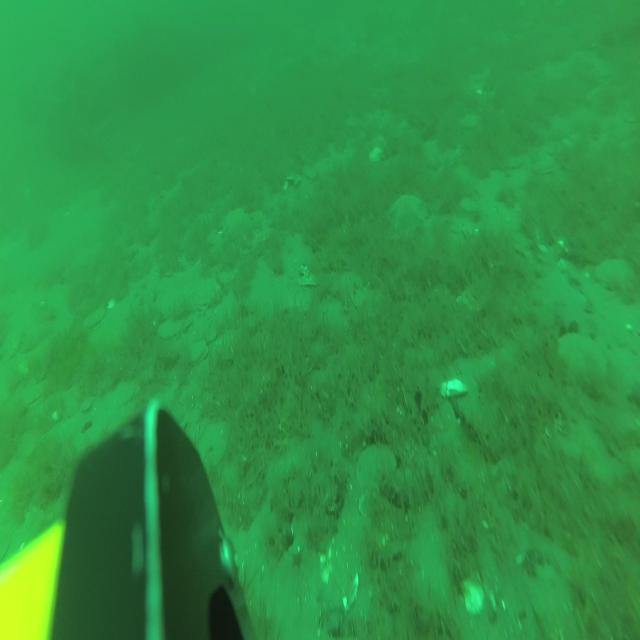scallop: (557, 332, 607, 386), (358, 442, 397, 494), (596, 255, 636, 295), (199, 423, 227, 469), (24, 378, 48, 409), (158, 317, 184, 344), (197, 280, 219, 310), (84, 306, 106, 332), (189, 339, 207, 364)
starfish: (386, 195, 427, 237), (222, 208, 249, 240)
